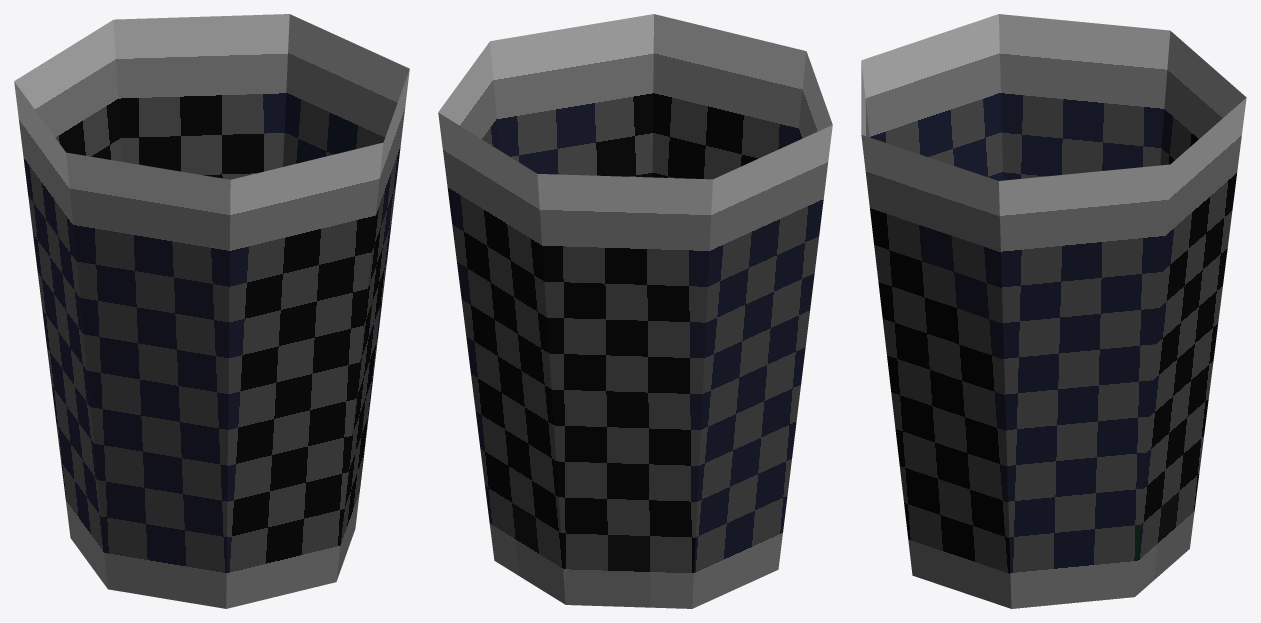
Rendered from SM_TrashCan.fbx.
3 renders of one model, left to right at view 1: azimuth 30°, elevation 25°; view 2: azimuth 150°, elevation 25°; view 3: azimuth 270°, elevation 25°, orthographic.
Parts seen in each view (by area): view 1: TrashCan.001; view 2: TrashCan.001; view 3: TrashCan.001.
Part boxes in pixels (x1,y1,x2,y2): TrashCan.001: (14,14,409,608); TrashCan.001: (438,14,832,608); TrashCan.001: (861,14,1246,608).
Bounding box in the file's own units: 29.76 × 37.5 × 29.01.
